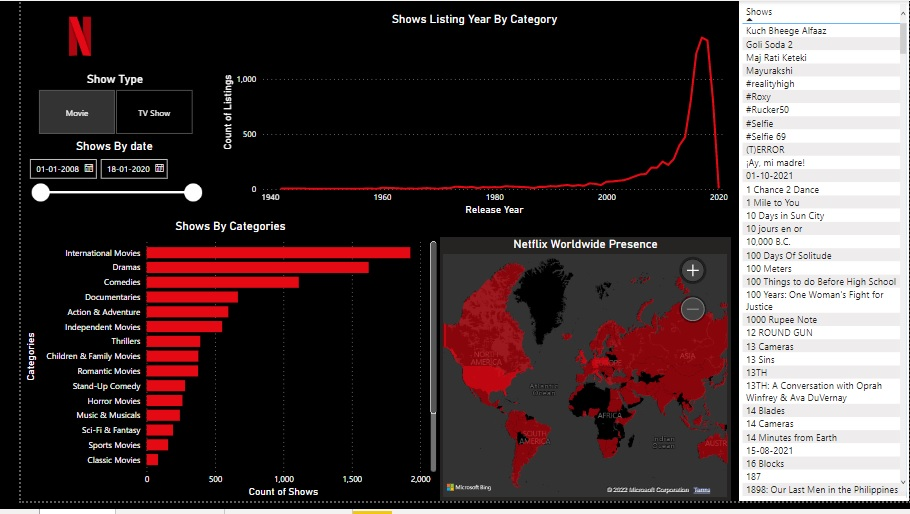

The dashboard page shown, as its layout file describes it:
{"tool":"powerbi","page":{"name":"Page 1","canvas":[1280,720],"ordinal":0},"visuals":[{"type":"barChart","title":"Shows By Categories","fields":{"Category":["netflix_titles_category.listed_in"],"Y":["netflix_titles.title"]},"box":[0,313.9,603.4,406.1],"z":0},{"type":"slicer","title":"Shows By date","fields":{"Values":["netflix_titles.date_added"]},"box":[0,198.7,269.3,115.2],"z":1000},{"type":"pivotTable","fields":{"Rows":["netflix_titles.title"]},"box":[1033.9,0,246.2,720],"z":2000},{"type":"slicer","title":"Show Type","fields":{"Values":["netflix_titles.type"]},"box":[0,102.2,270.7,96.5],"z":3000},{"type":"lineChart","title":"Shows Listing Year By Category","fields":{"Category":["netflix_titles.release_year"],"Y":["netflix_titles_category.listed_in"]},"box":[283.7,15.8,738.7,298.1],"z":4000},{"type":"filledMap","title":"Netflix Worldwide Presence","fields":{"Category":["netflix_titles_countries.country"]},"box":[603.4,339.8,419,380.2],"z":5000},{"type":"image","box":[0,0,169.9,102.2],"z":5001}]}

Visuals, with their boxes in screenshot pixels (x1, y1, x2, y2), scaled from the page's 1280x720 canvas onto the 910x514 screenshot:
"Shows By Categories" barChart: {"x1": 0, "y1": 224, "x2": 429, "y2": 513}
"Shows By date" slicer: {"x1": 0, "y1": 142, "x2": 191, "y2": 224}
pivotTable - netflix_titles.title: {"x1": 735, "y1": 0, "x2": 909, "y2": 513}
"Show Type" slicer: {"x1": 0, "y1": 73, "x2": 192, "y2": 142}
"Shows Listing Year By Category" lineChart: {"x1": 202, "y1": 11, "x2": 727, "y2": 224}
"Netflix Worldwide Presence" filledMap: {"x1": 429, "y1": 243, "x2": 727, "y2": 513}
image: {"x1": 0, "y1": 0, "x2": 121, "y2": 73}
